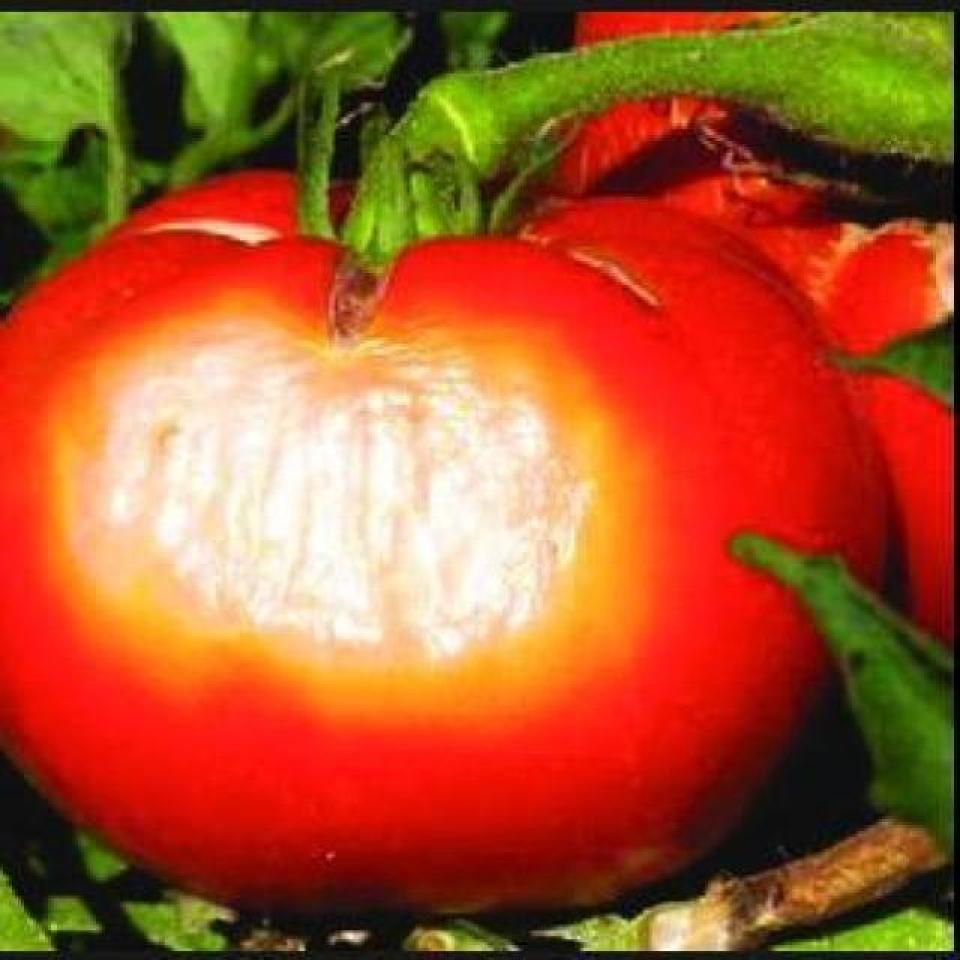Sunscald: (29, 284, 659, 728)
